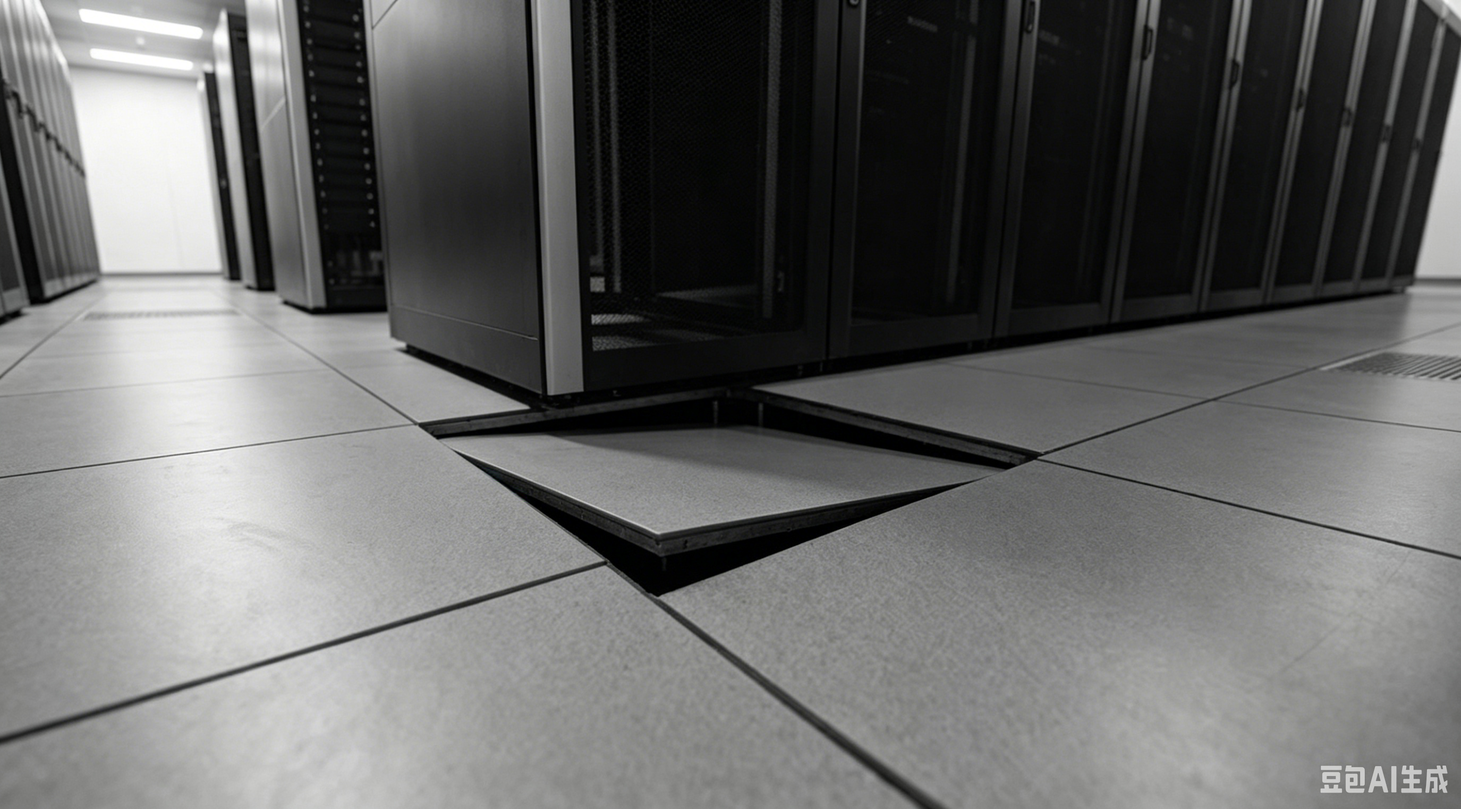floor_defect: (402, 359, 1047, 607)
